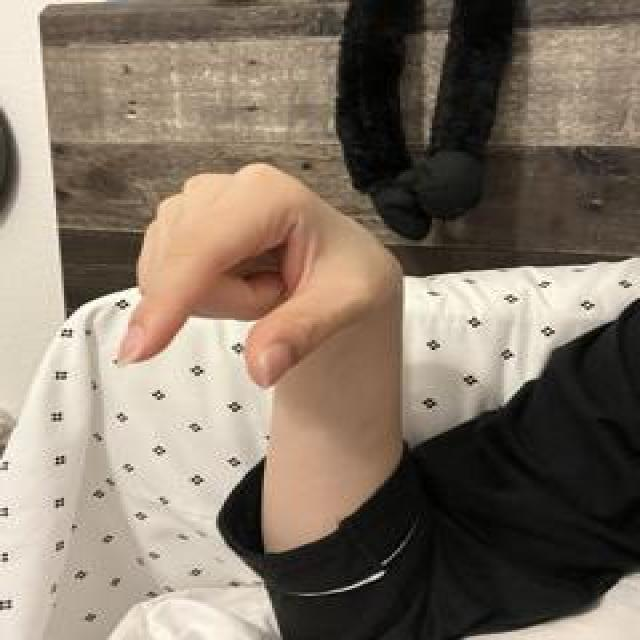Q: (109, 162, 408, 394)
